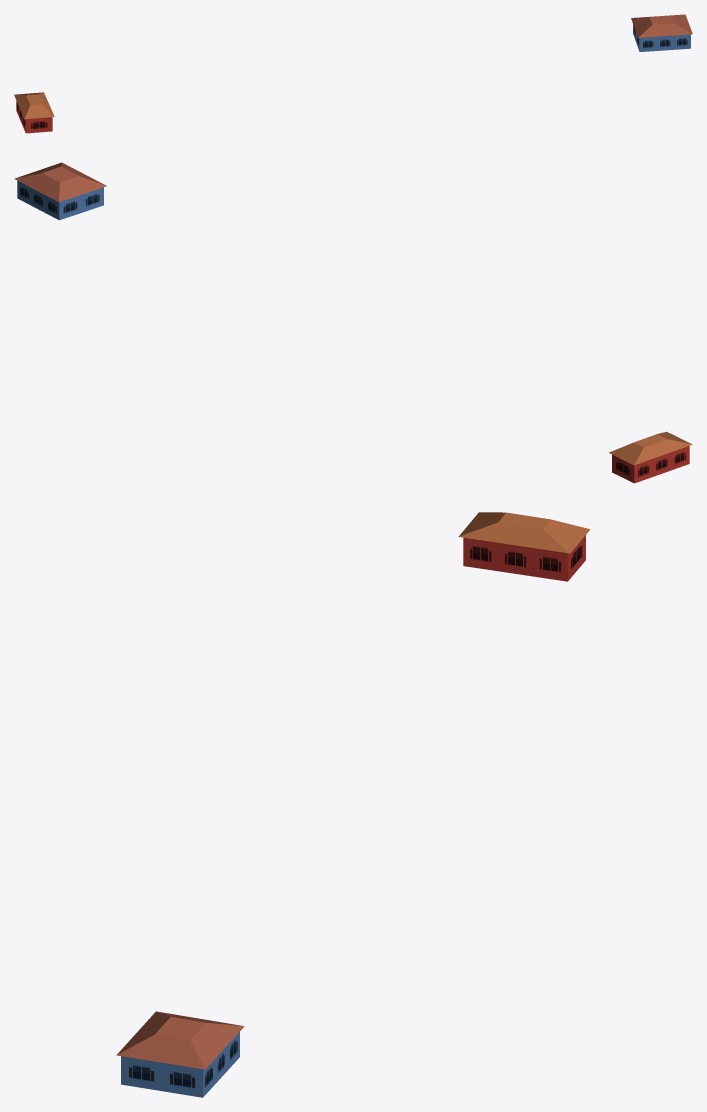
Rendered from msb_palmbeach_m23_m9.glb.
The picture shows the model from 3 angles, top to bottom: view 1: azimuth 30°, elevation 25°; view 2: azimuth 150°, elevation 25°; view 3: azimuth 270°, elevation 25°; orthographic projection. The views are drawn at different scales.
Parts seen in each view (by area): view 1: msb_palmbeach_m23_m9_lod0; view 2: msb_palmbeach_m23_m9_lod0; view 3: msb_palmbeach_m23_m9_lod0.
Part boxes in pixels (x1,y1,x2,y2): msb_palmbeach_m23_m9_lod0: (14,14,692,133); msb_palmbeach_m23_m9_lod0: (14,162,692,483); msb_palmbeach_m23_m9_lod0: (116,512,590,1097).
Size of what is drawn, in the model's own units: 144 by 7.33 by 49.92.
2 materials, 1 textured.
